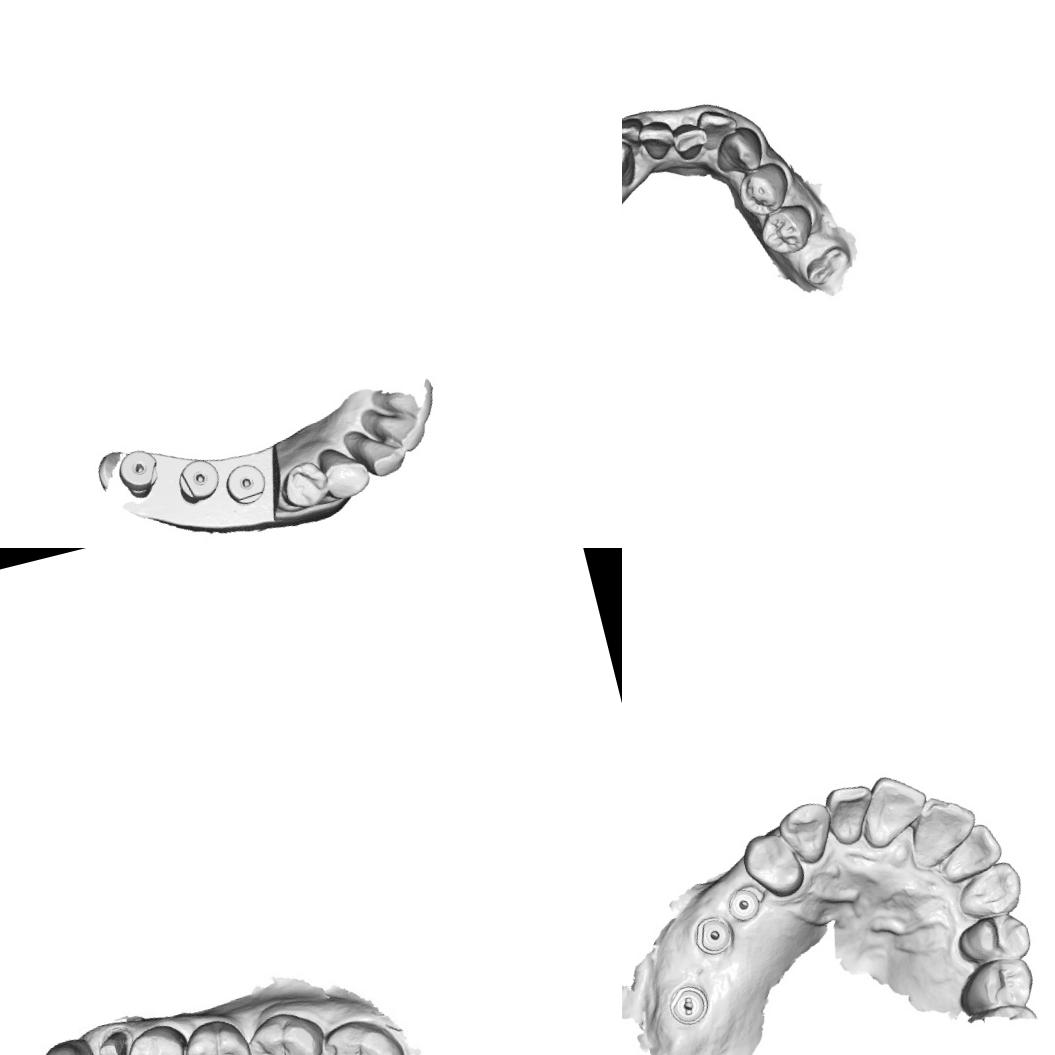canine: (947, 848, 1030, 924), (770, 795, 842, 870), (707, 121, 767, 181), (29, 1031, 103, 1055), (622, 134, 642, 195)
crown: (274, 456, 333, 514), (92, 1028, 134, 1055)
implant: (112, 442, 166, 503), (170, 452, 224, 507), (686, 909, 741, 962), (220, 458, 271, 510), (721, 881, 763, 926)
implant_minus: (660, 977, 714, 1031)
incisor: (855, 766, 934, 850), (904, 786, 983, 864), (932, 816, 1007, 885), (816, 776, 884, 850), (314, 438, 373, 504), (370, 403, 430, 459), (354, 426, 411, 482), (690, 102, 742, 154), (633, 114, 678, 164), (668, 117, 712, 164), (622, 110, 647, 148)
molar: (237, 1002, 334, 1055), (304, 1012, 410, 1055), (180, 1015, 256, 1055)
premolar: (948, 950, 1040, 1022), (947, 904, 1039, 974), (735, 826, 808, 904), (731, 158, 796, 220), (752, 200, 817, 260), (121, 1020, 193, 1055)
